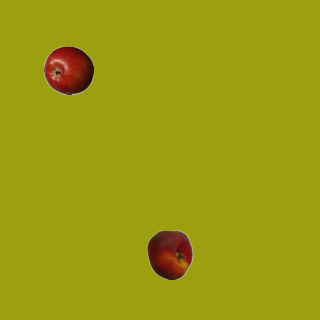Apple Braeburn: (43, 45, 93, 95)
Nectarine Flat: (144, 229, 194, 279)
